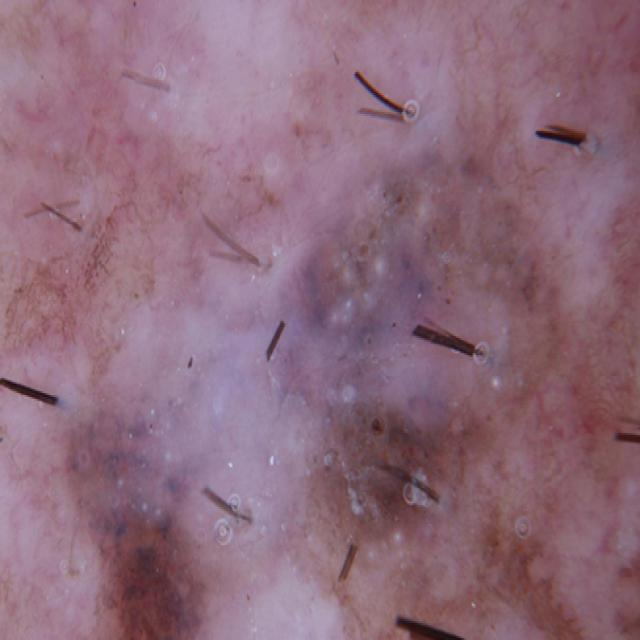Keratosis: (242, 125, 640, 640), (43, 252, 215, 640)
